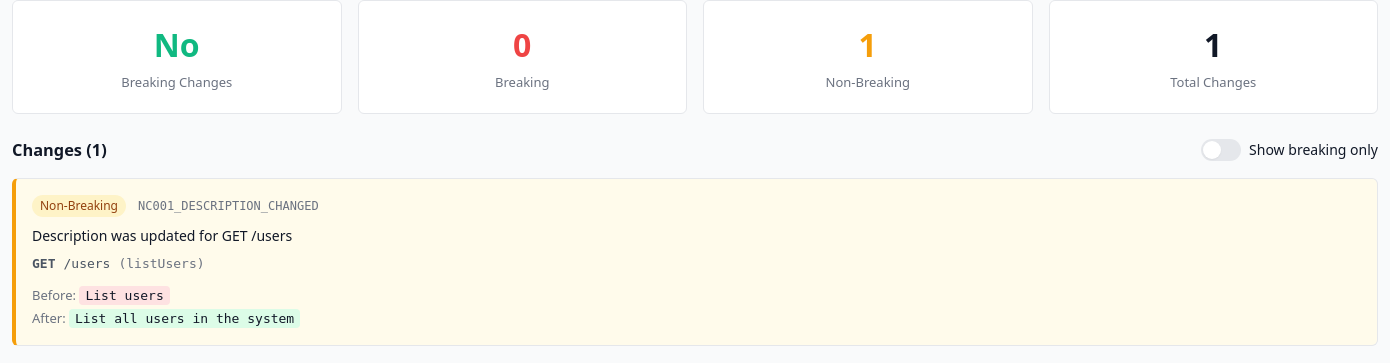
it: DiffReportViewer › should show no breaking changes message when filtering empty
Click the checkbox.
click(1221, 150)  # box [1201, 139, 1241, 161]
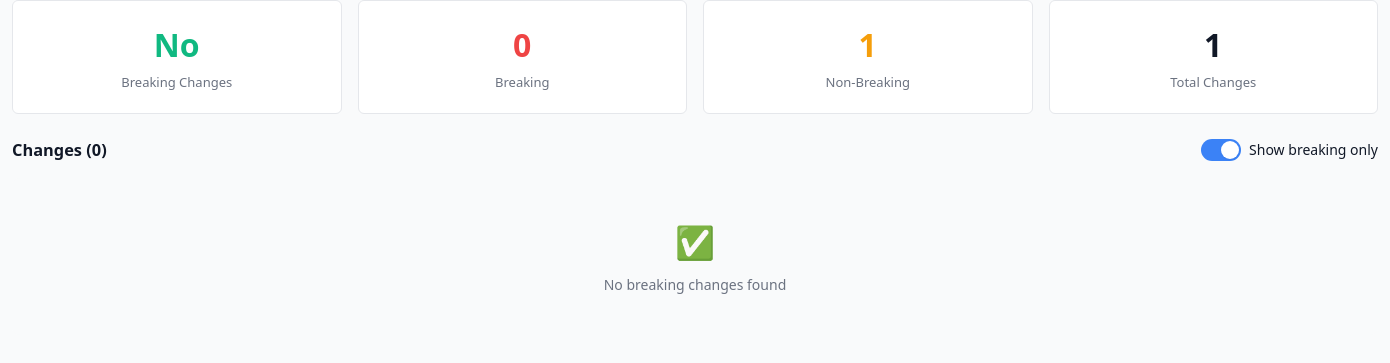
Now the text "No breaking changes found" is shown, box [604, 275, 786, 294]
